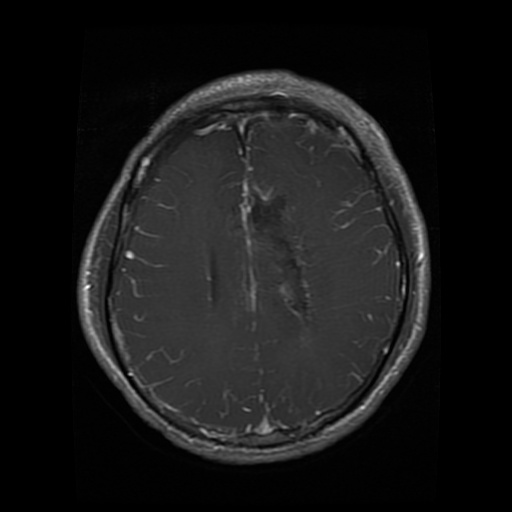glioma: (204, 170, 314, 333)
